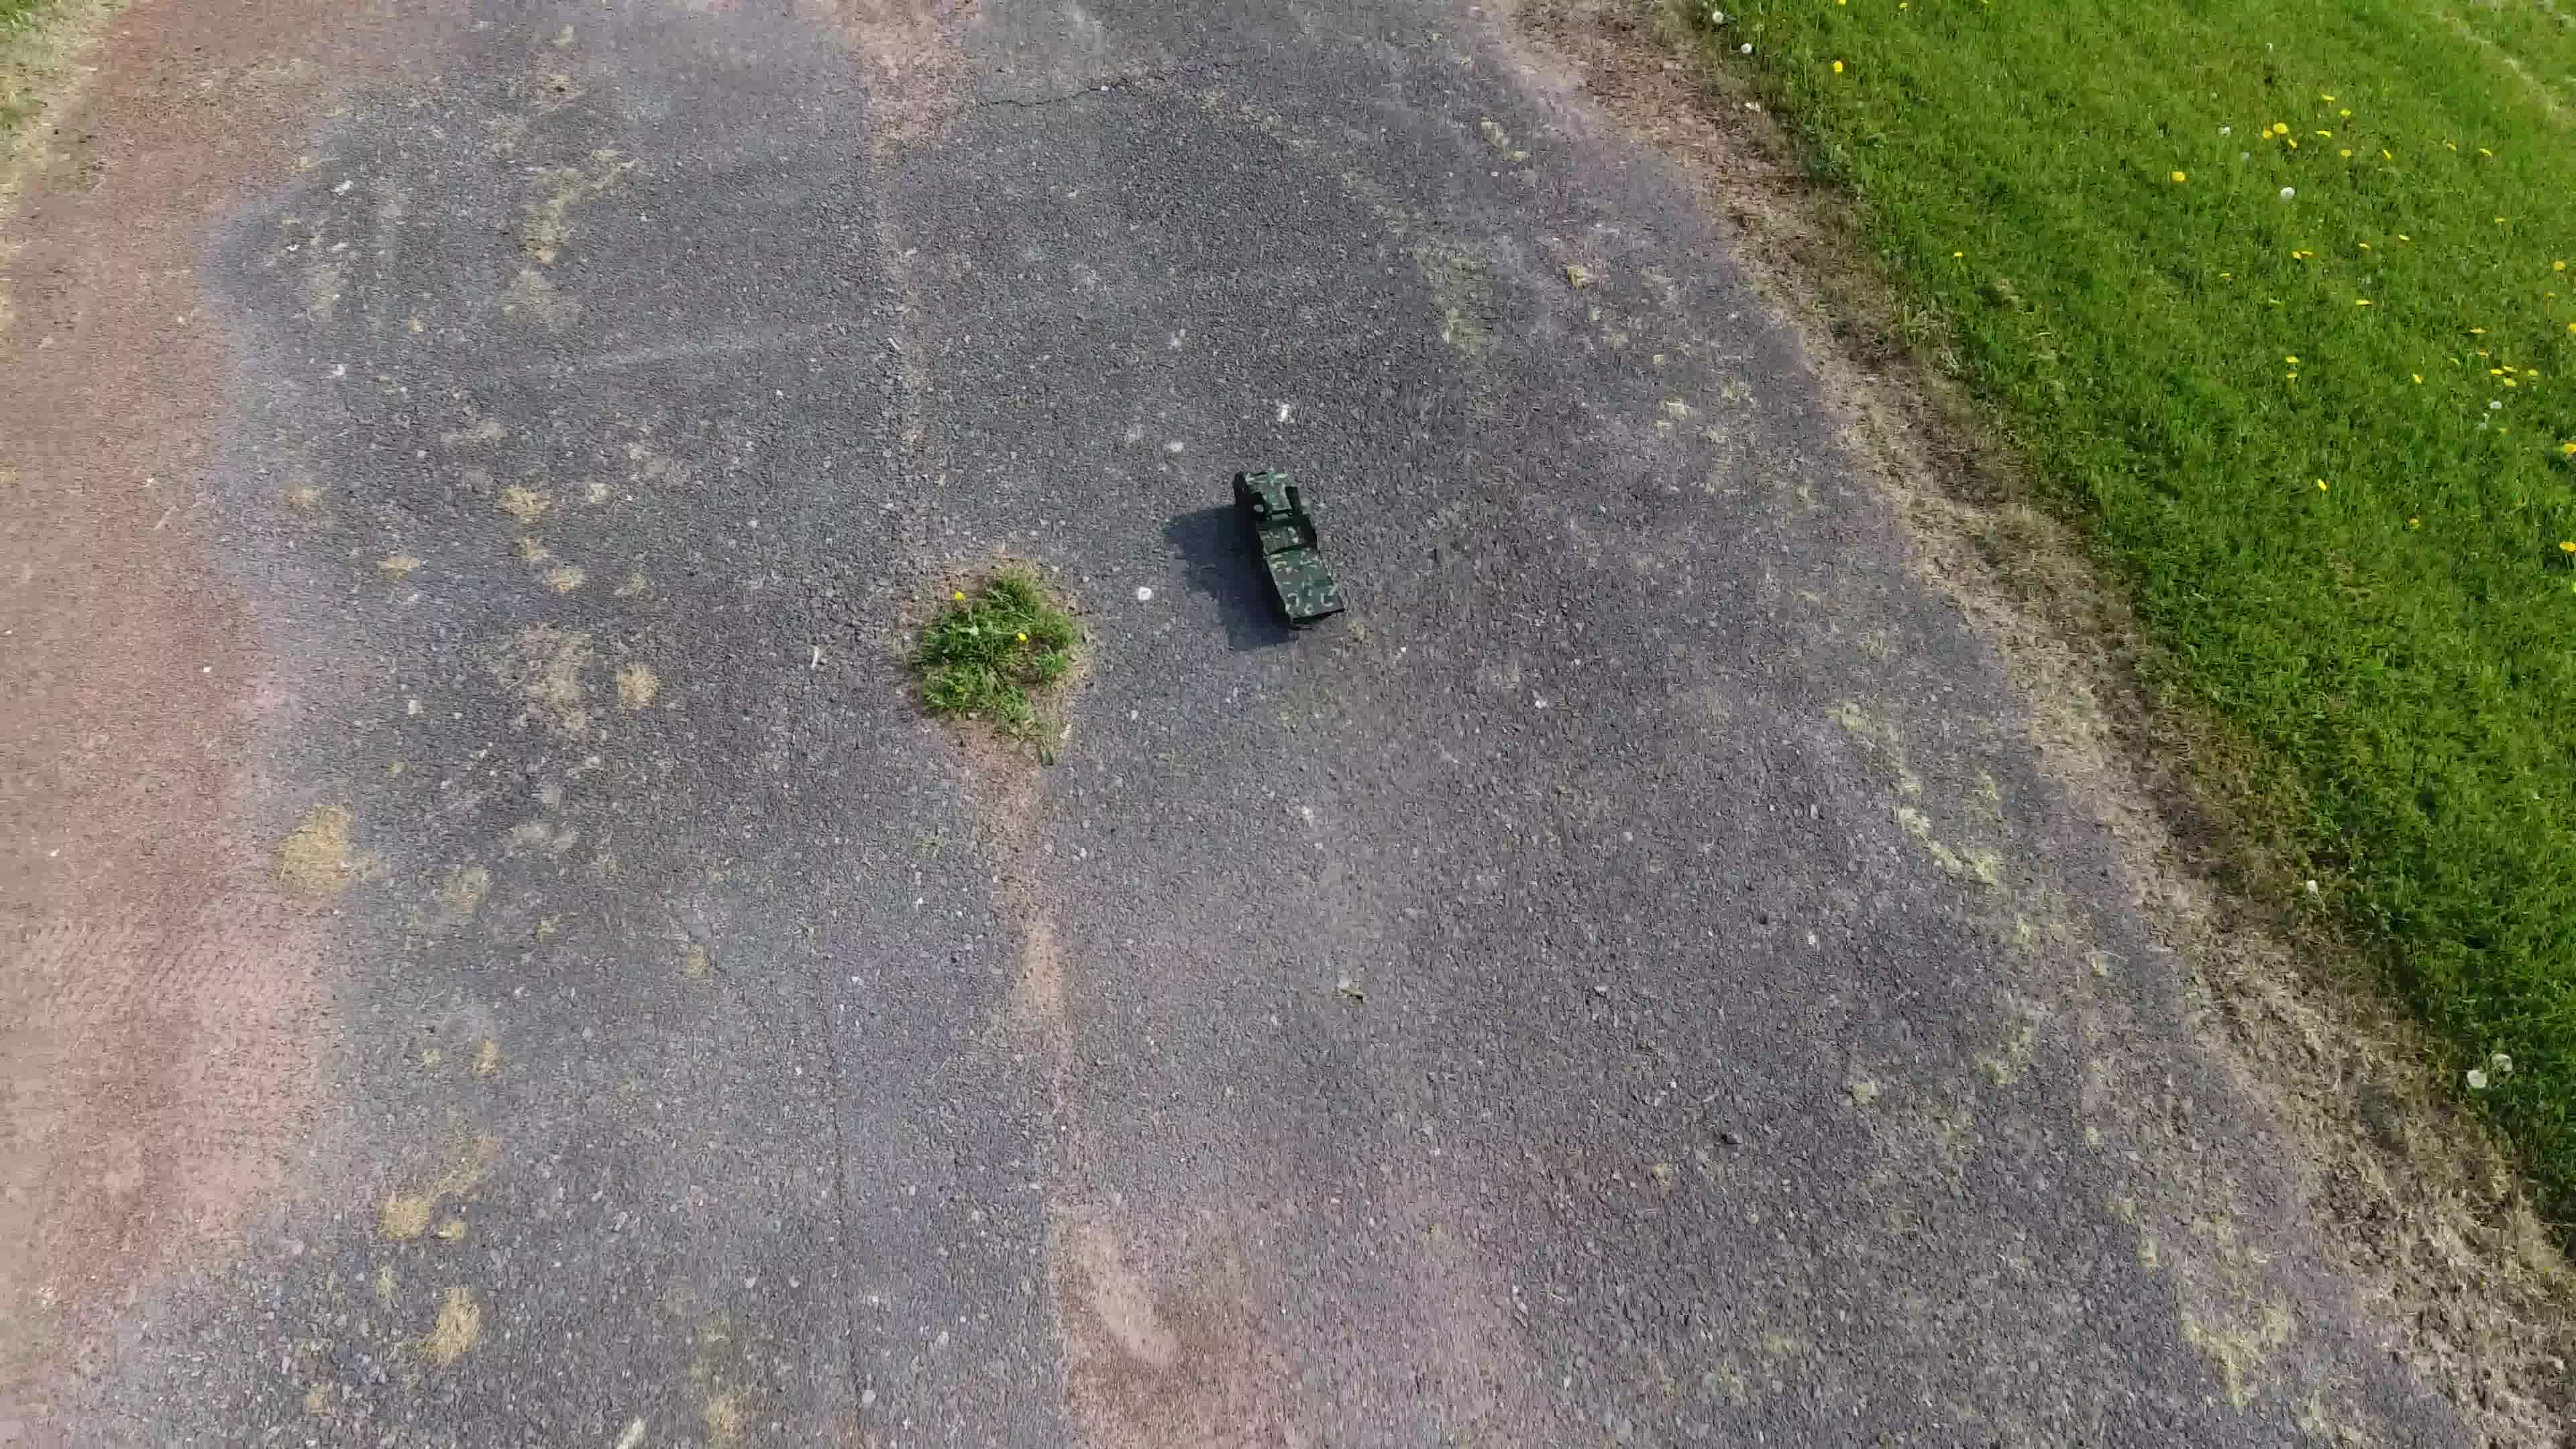transporter9_camo: (1228, 462, 1350, 633)
